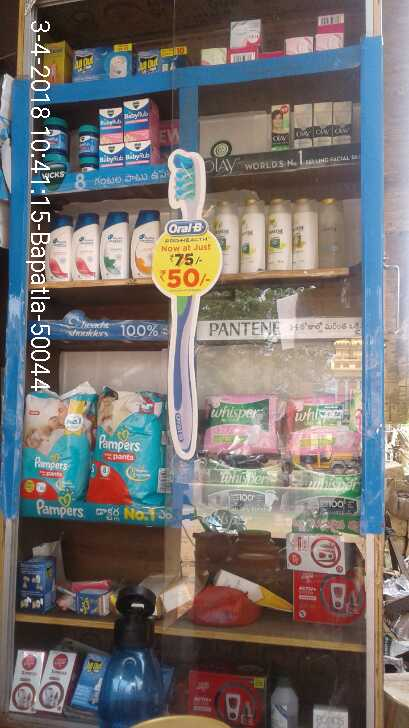vicks: (37, 112, 160, 164)
